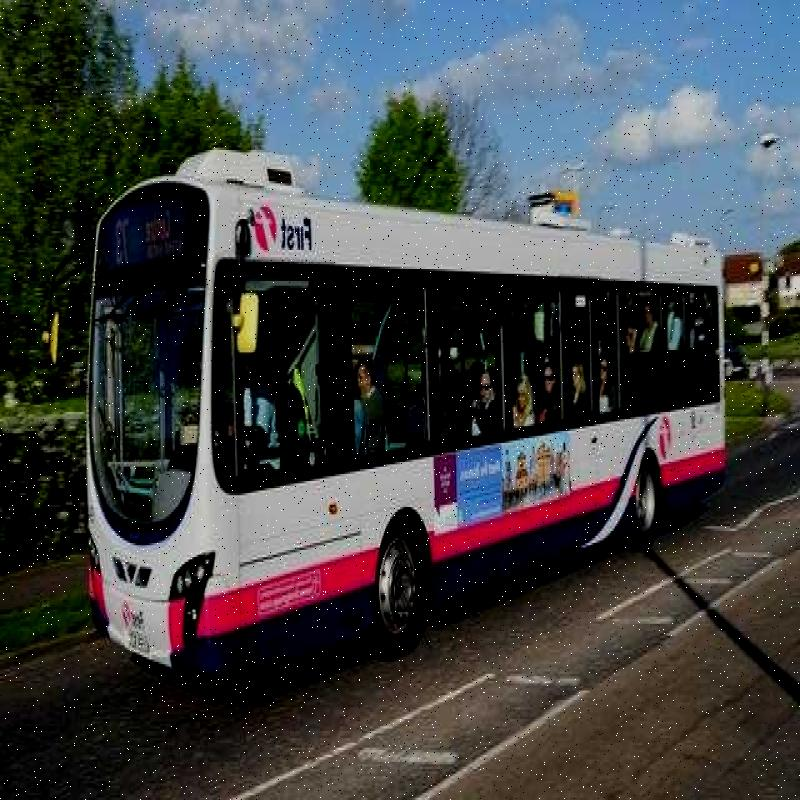bus: (80, 142, 734, 718)
